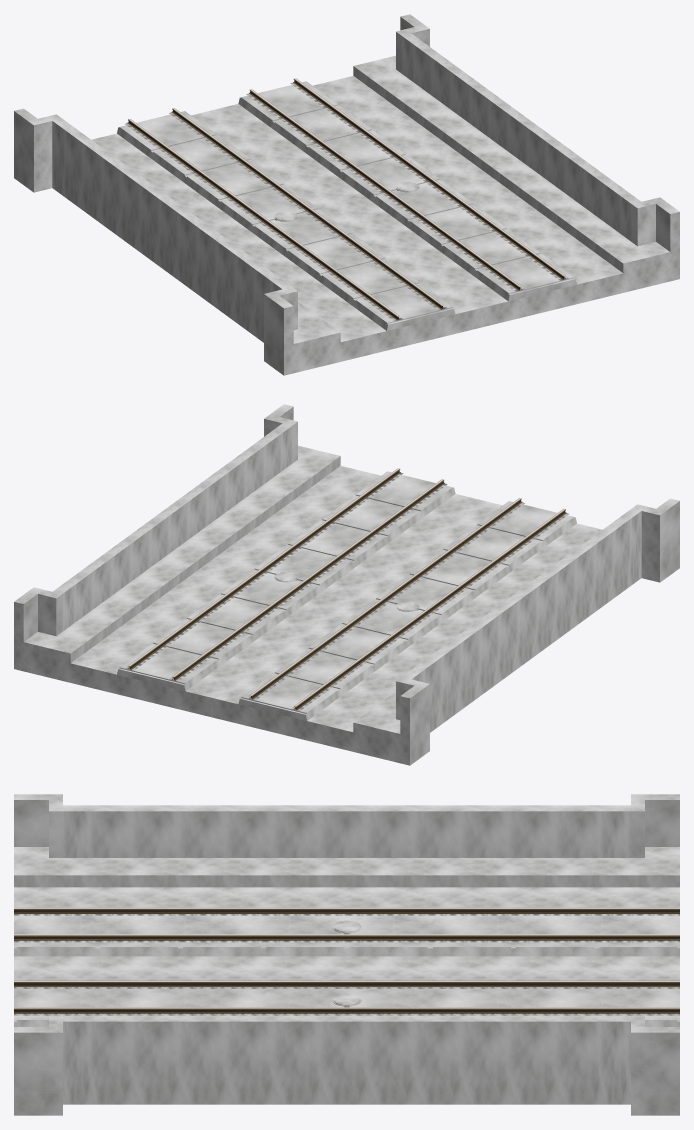
The model's file is HT_2RAIL_KONKURI50.glb.
The picture shows the model from 3 angles, top to bottom: view 1: azimuth 30°, elevation 25°; view 2: azimuth 150°, elevation 25°; view 3: azimuth 270°, elevation 25°; orthographic projection. The views are drawn at different scales.
Visible parts, largest first — view 1: obj6; view 2: obj6; view 3: obj6, obj1.
Part boxes in pixels (x1,y1,x2,y2): obj6: (14, 14, 679, 375); obj6: (14, 404, 679, 765); obj6: (14, 794, 679, 1115); obj1: (332, 920, 361, 1007).
Size of the model in its own units: 42.36 by 6.88 by 50.
Materials: 5 (5 with a texture image).
